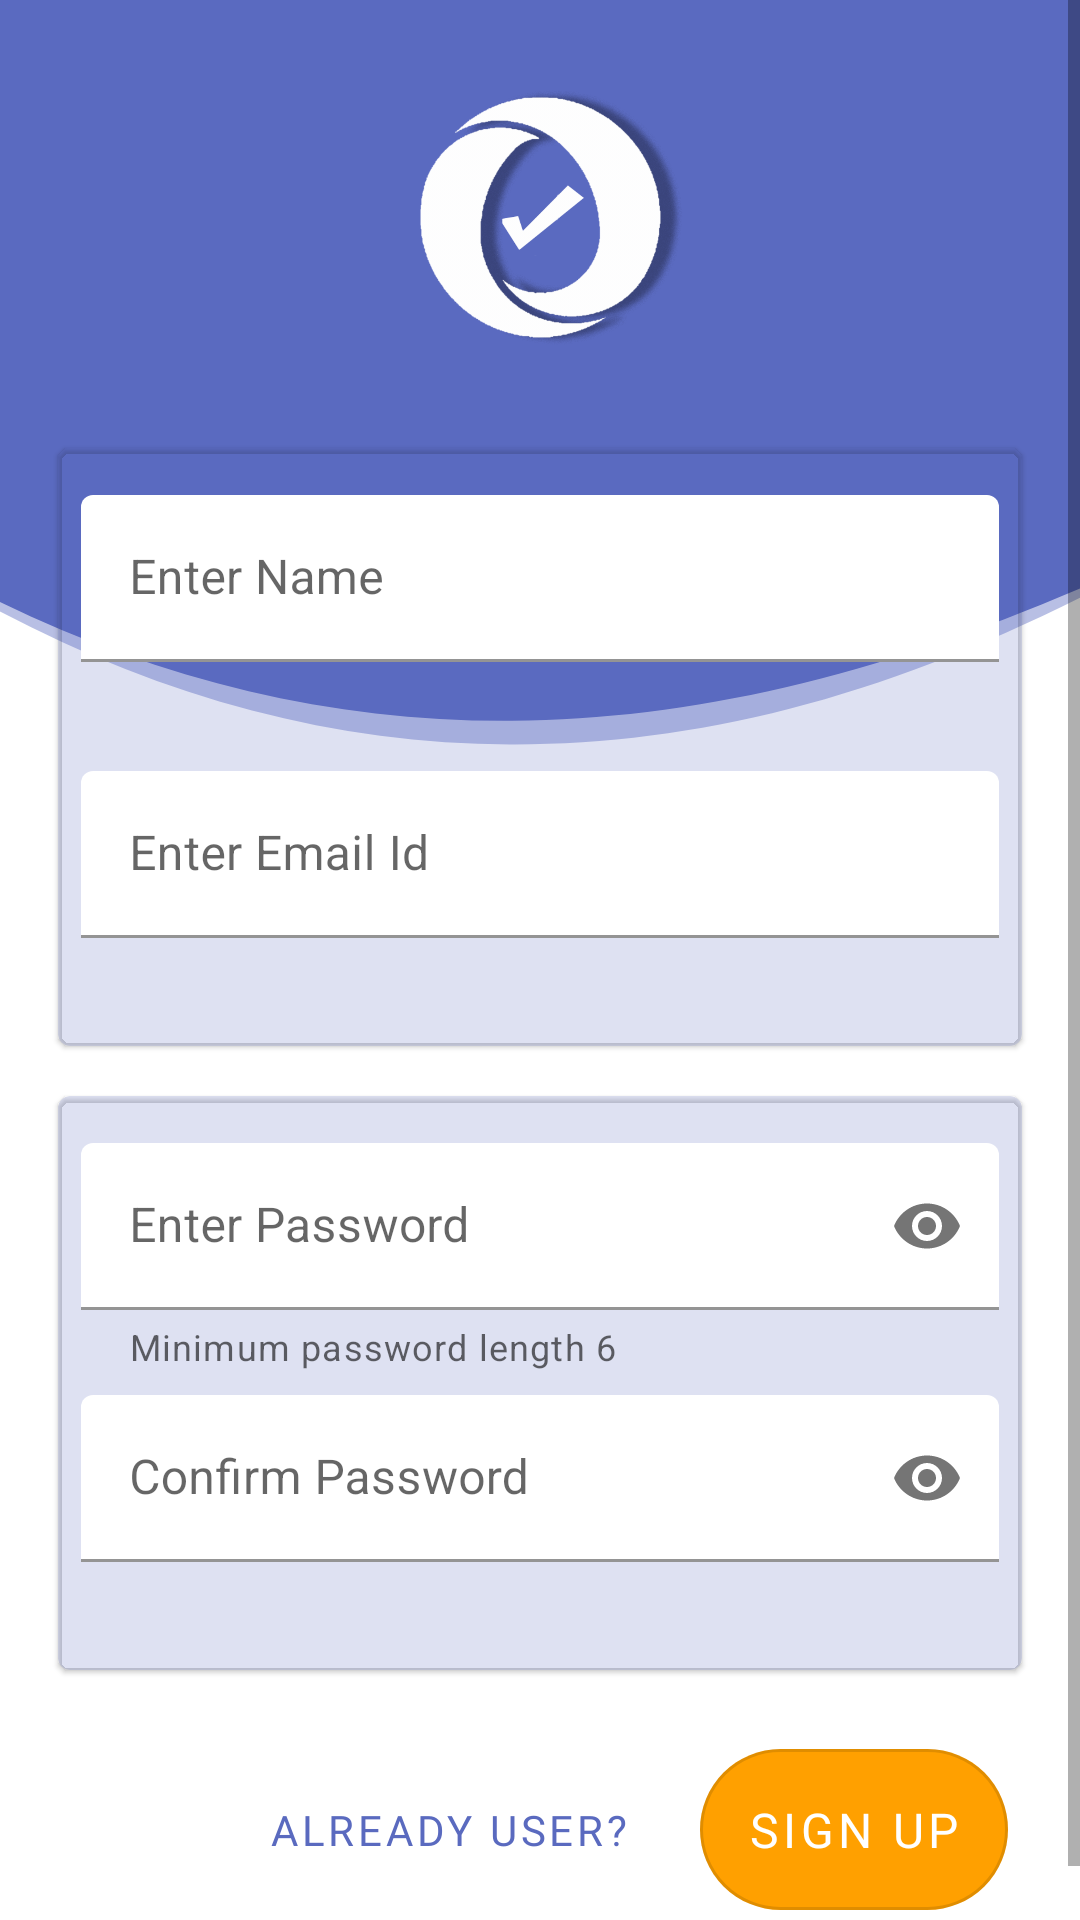

Point at icon controls on the screen. Image size 1080 x 1920, points as point (x, y).
App Icon: point (548, 217)
